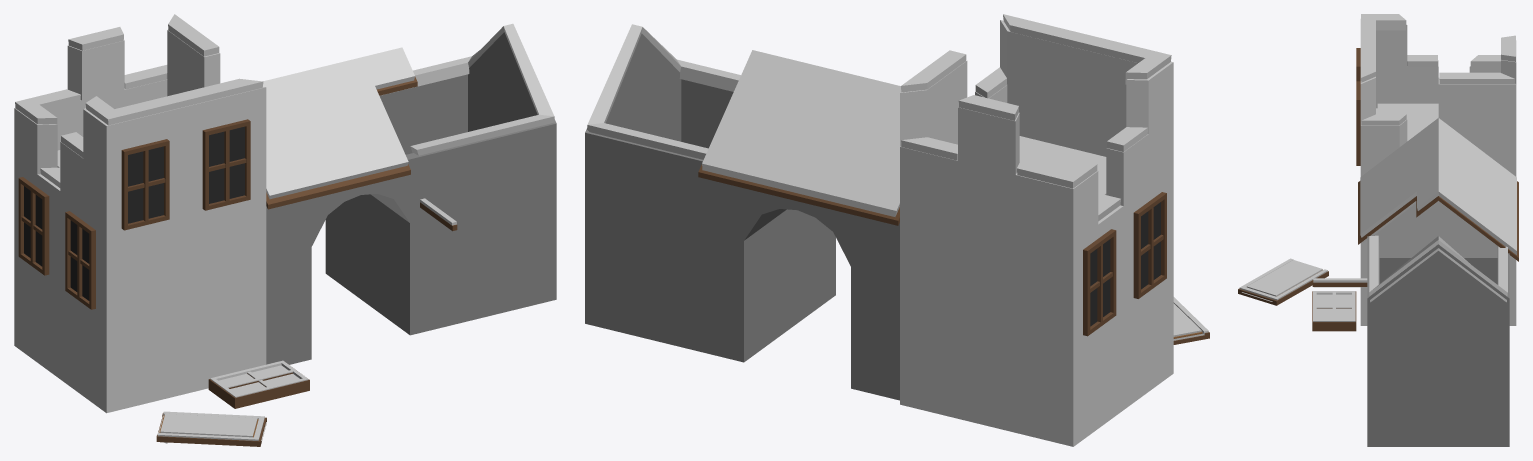
File: GunShop_build_snow_mat.fbx
3 views of the same model, side by side, from view 1: azimuth 30°, elevation 25°; view 2: azimuth 150°, elevation 25°; view 3: azimuth 270°, elevation 25° (orthographic). The views are drawn at different scales.
Visible parts, largest first — view 1: GunShop_build_snow_mat; view 2: GunShop_build_snow_mat; view 3: GunShop_build_snow_mat.
Part boxes in pixels (x1,y1,x2,y2): GunShop_build_snow_mat: (14, 14, 556, 446); GunShop_build_snow_mat: (585, 14, 1209, 446); GunShop_build_snow_mat: (1238, 14, 1518, 446).
Size of the model in its own units: 526 by 324 by 331.
